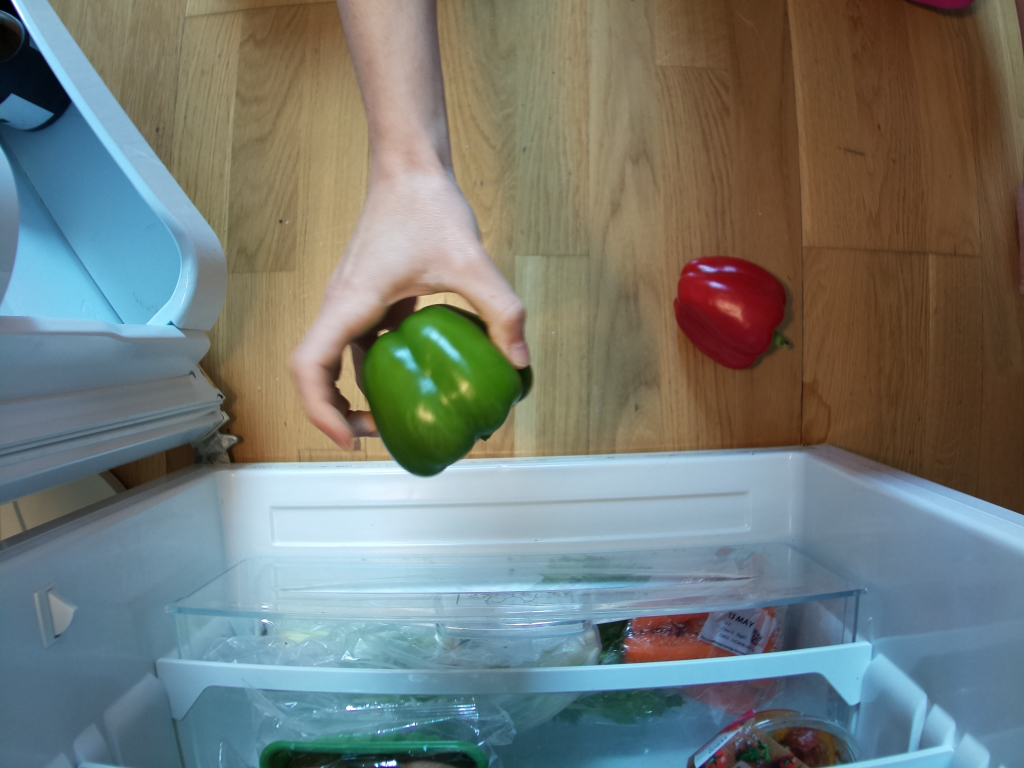pepper: (364, 307, 536, 477), (673, 257, 796, 374)
